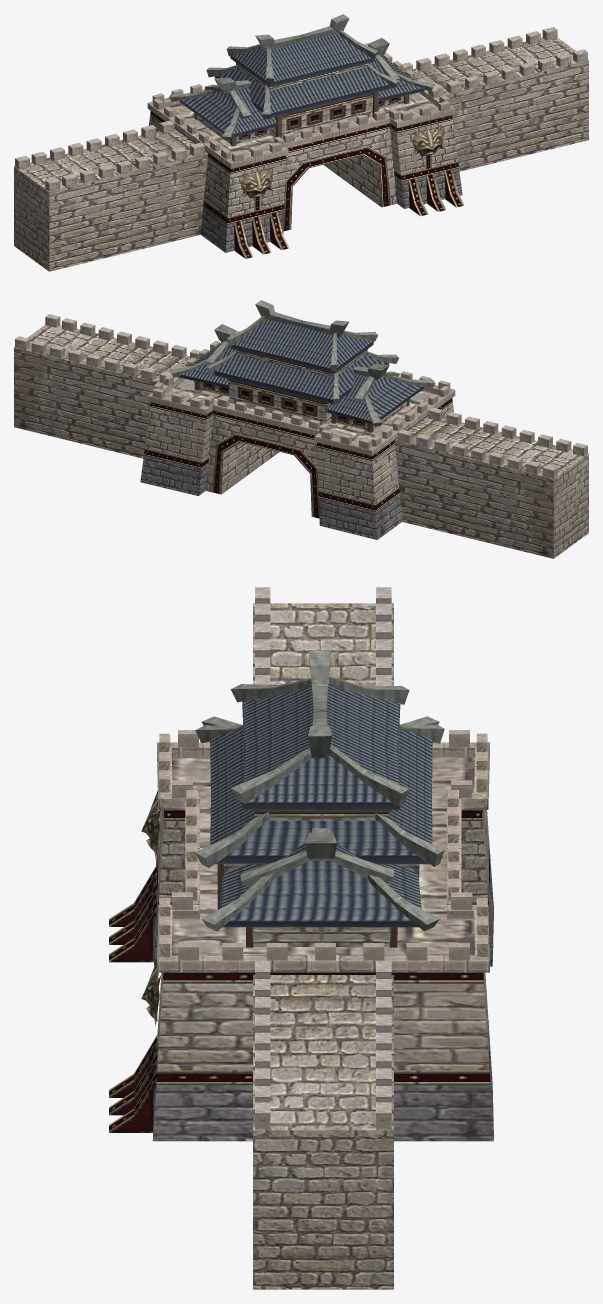
The model's file is FH_Env_Guanqia_05.FBX.
3 renders of one model, top to bottom at view 1: azimuth 30°, elevation 25°; view 2: azimuth 150°, elevation 25°; view 3: azimuth 270°, elevation 25°, orthographic. The views are drawn at different scales.
Visible parts, largest first — view 1: 10, Object09, Object15; view 2: 10, Object09, Object15; view 3: 10, Object15, Object09.
Part boxes in pixels (box(x1,y1,x2,y2)): 10: box(147, 14, 464, 258); Object09: box(14, 120, 208, 271); Object15: box(402, 27, 588, 171); 10: box(140, 300, 455, 539); Object09: box(394, 407, 588, 558); Object15: box(14, 314, 200, 458); 10: box(109, 650, 493, 1141); Object15: box(253, 961, 393, 1289); Object09: box(253, 587, 393, 686).
Size of the model in its own units: 46.63 by 13.75 by 14.41.
